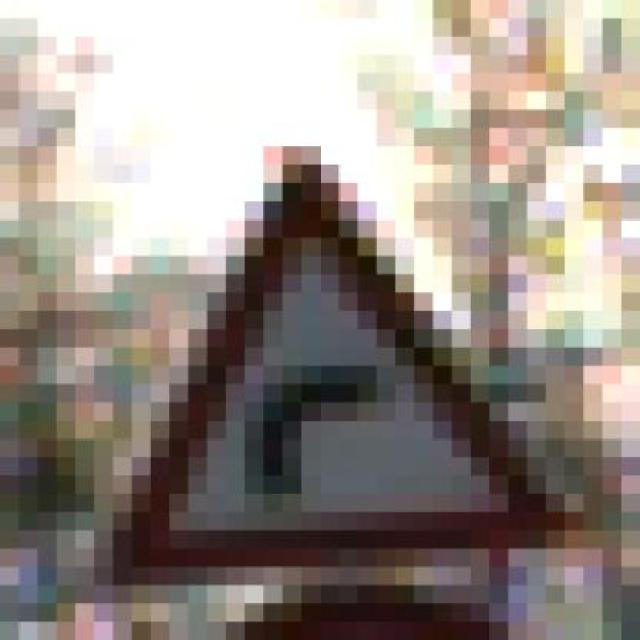Dangerous Rright Curve Ahead: (90, 125, 578, 582)
